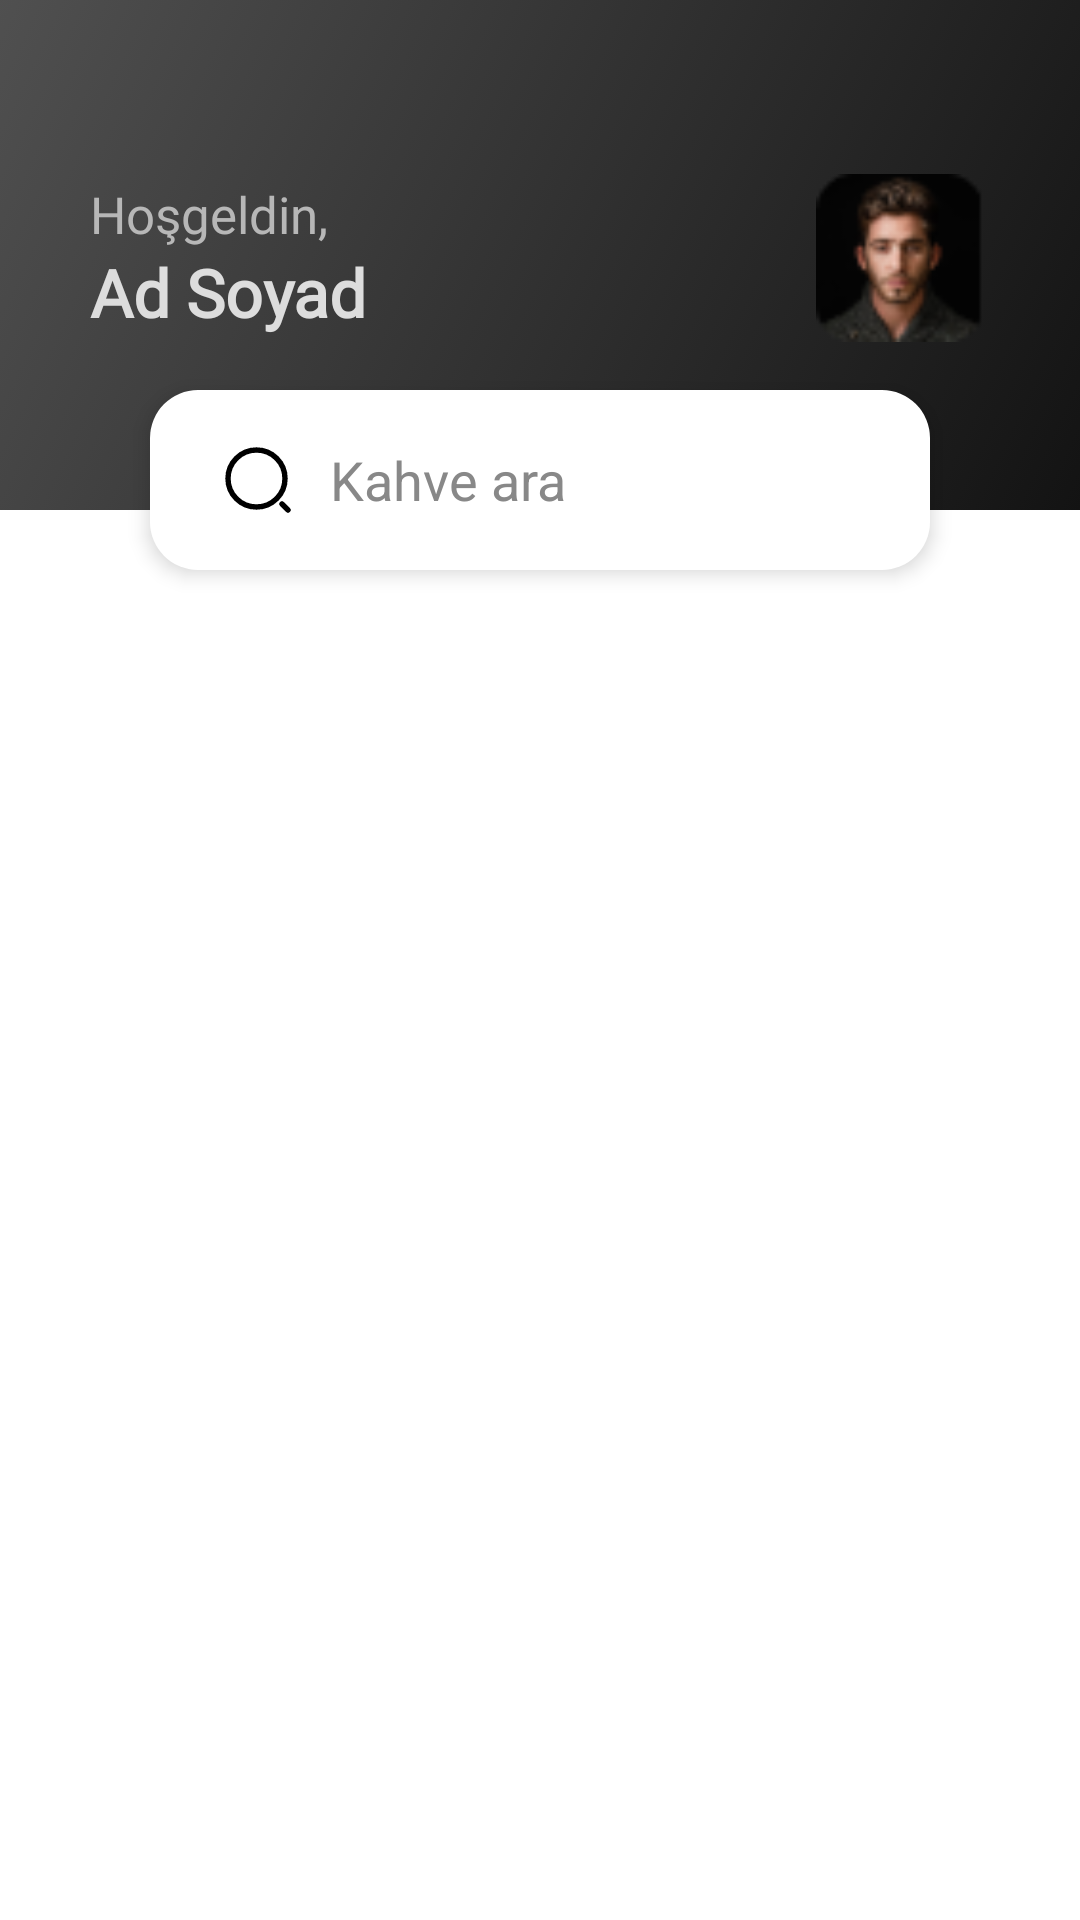

Locate icon controls on the screen. Image size 1080*1920, boxes as (x1, y1, x2, y2).
search: (225, 447, 291, 513)
